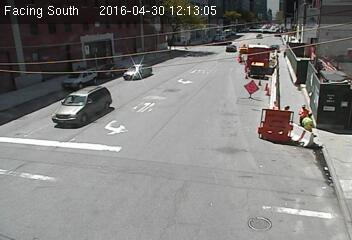neg: (215, 140, 235, 167), (156, 103, 174, 127), (111, 129, 129, 153), (204, 78, 219, 99)
pos: (294, 104, 312, 128), (301, 111, 317, 132)
